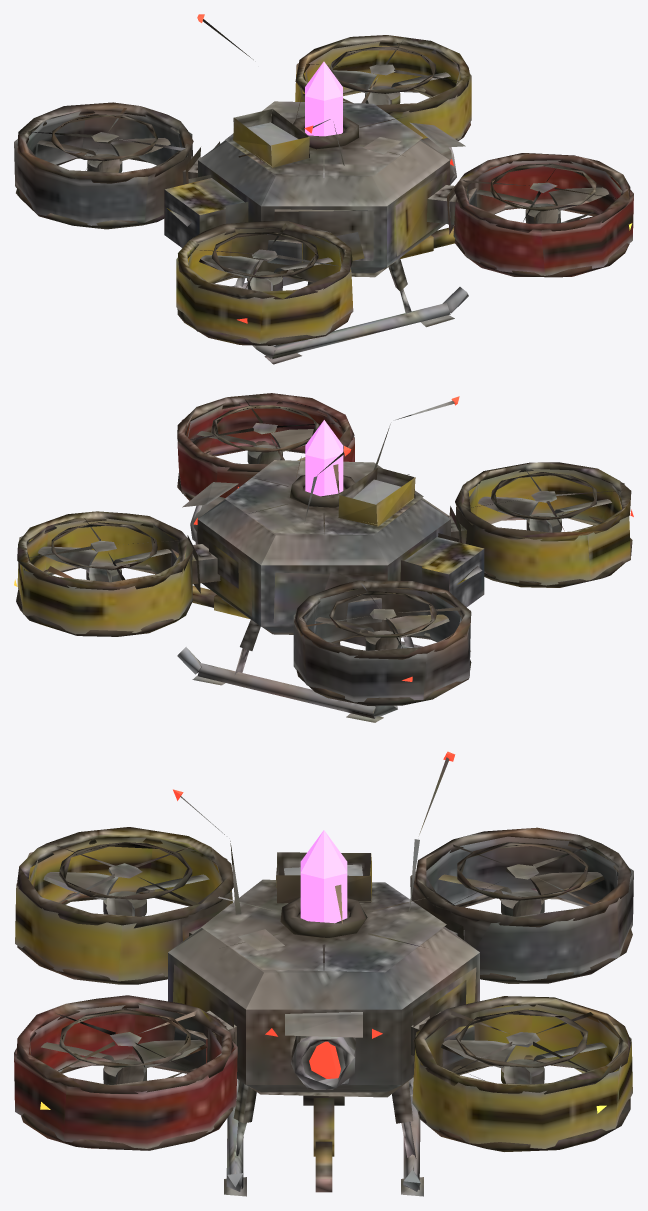
Rendered from drone_reparo.glb.
The picture shows the model from 3 angles, top to bottom: view 1: azimuth 30°, elevation 25°; view 2: azimuth 150°, elevation 25°; view 3: azimuth 270°, elevation 25°; orthographic projection. The views are drawn at different scales.
Parts seen in each view (by area): view 1: drone_reparo_corpo, drone_reparo_n0, drone_reparo_rotor2.001, drone_reparo_rotor3.001, drone_reparo_rotor1.001, drone_reparo_rotor0.001; view 2: drone_reparo_corpo, drone_reparo_n0, drone_reparo_rotor1.001, drone_reparo_rotor2.001, drone_reparo_rotor0.001, drone_reparo_rotor3.001; view 3: drone_reparo_corpo, drone_reparo_n0, drone_reparo_rotor3.001, drone_reparo_rotor1.001, drone_reparo_rotor0.001, drone_reparo_rotor2.001, drone_reparo_ombro.001, drone_reparo_cotovelo.001.
Boxes of the visible parts, x1=… form: drone_reparo_corpo: x1=14, y1=19, x2=633, y2=364; drone_reparo_n0: x1=197, y1=14, x2=632, y2=323; drone_reparo_rotor2.001: x1=199, y1=255, x2=333, y2=291; drone_reparo_rotor3.001: x1=475, y1=187, x2=608, y2=223; drone_reparo_rotor1.001: x1=37, y1=138, x2=170, y2=172; drone_reparo_rotor0.001: x1=333, y1=70, x2=450, y2=105; drone_reparo_corpo: x1=16, y1=393, x2=632, y2=722; drone_reparo_n0: x1=14, y1=396, x2=633, y2=681; drone_reparo_rotor1.001: x1=315, y1=614, x2=449, y2=650; drone_reparo_rotor2.001: x1=478, y1=496, x2=611, y2=532; drone_reparo_rotor0.001: x1=38, y1=546, x2=171, y2=582; drone_reparo_rotor3.001: x1=197, y1=429, x2=313, y2=464; drone_reparo_corpo: x1=14, y1=757, x2=633, y2=1196; drone_reparo_n0: x1=40, y1=751, x2=606, y2=1113; drone_reparo_rotor3.001: x1=41, y1=1039, x2=206, y2=1084; drone_reparo_rotor1.001: x1=438, y1=872, x2=604, y2=916; drone_reparo_rotor0.001: x1=441, y1=1039, x2=606, y2=1084; drone_reparo_rotor2.001: x1=43, y1=872, x2=209, y2=916; drone_reparo_ombro.001: x1=313, y1=1098, x2=334, y2=1156; drone_reparo_cotovelo.001: x1=315, y1=1141, x2=332, y2=1192.
Bounding box in the file's own units: 0.5957 × 0.3665 × 0.5957.
5 materials, 1 textured.
